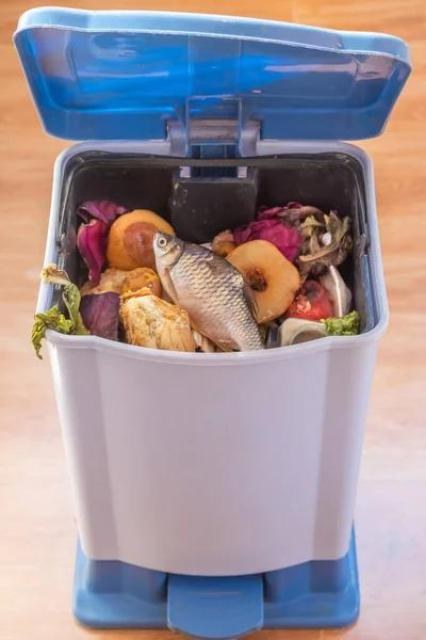Garbage: (48, 161, 361, 351)
